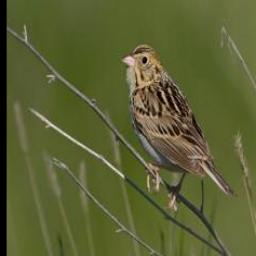Sparrow: (120, 43, 238, 213)
